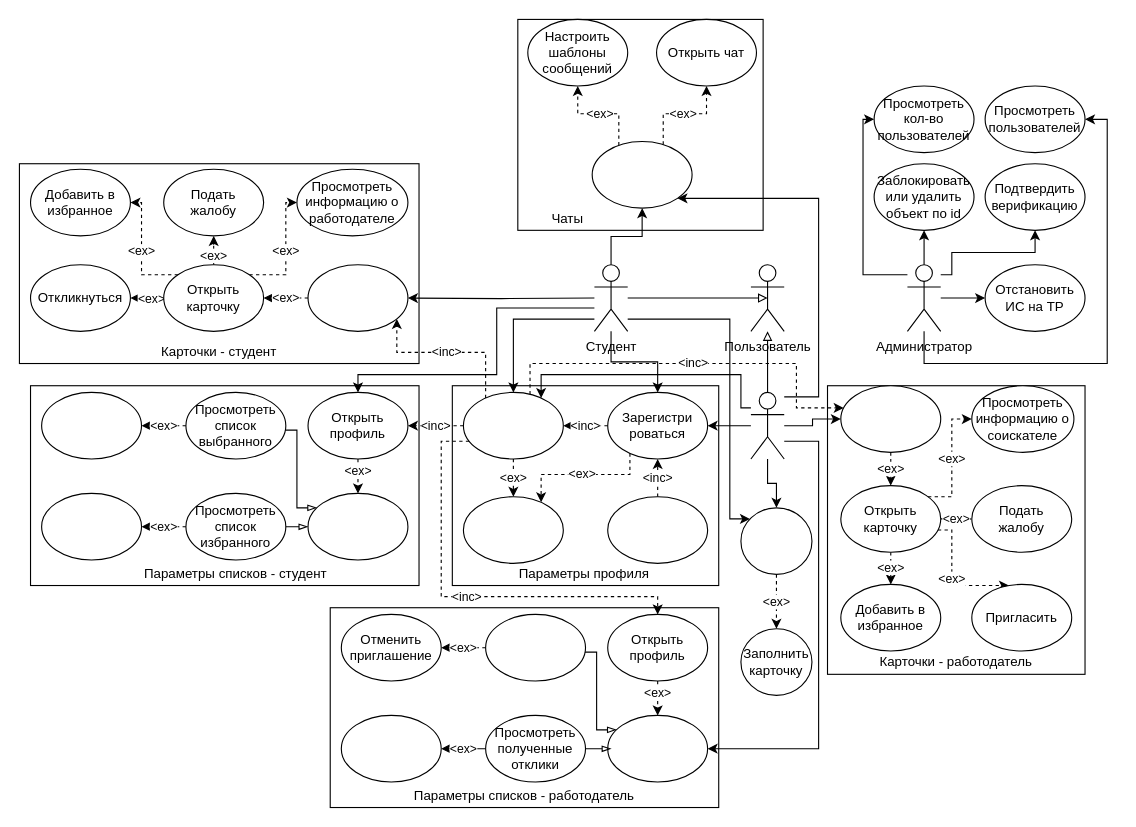
Some shapes in this 1136 by 827 pixel diagram are drawn without their labels. The centre of each missing label's shape, as x and y in pixels:
Авторизо ваться: [512,425]
Задать статус отклика: [390,748]
Заполнить или изменить резюме: [512,529]
Открыть список чатов: [641,174]
Отправить запрос на верификацию: [657,529]
Просматривать вакансии: [357,297]
Просматривать соискателей: [890,418]
Просмотреть исходящие приглашения: [535,647]
Просмотреть списки: [657,748]
Просмотреть списки вакансий: [357,526]
Просмотреть статус вакансий: [91,425]
Работодатель: [767,425]
Создать карточку: [776,540]
Удалить вакансию из списка: [91,526]
